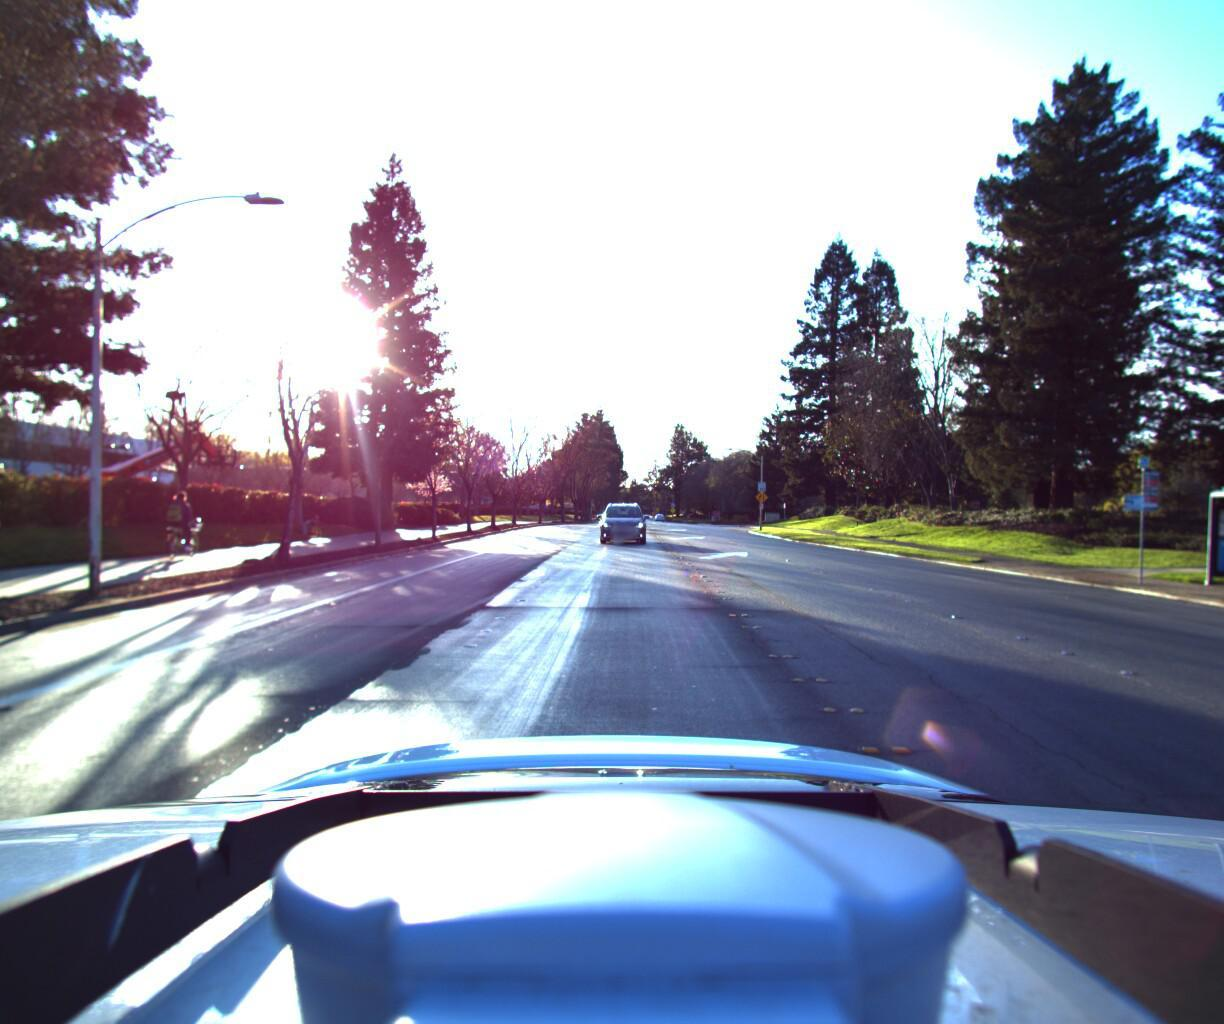bicycle: (152, 490, 219, 560)
car: (597, 500, 645, 545)
other_vehicle: (67, 415, 259, 535)
